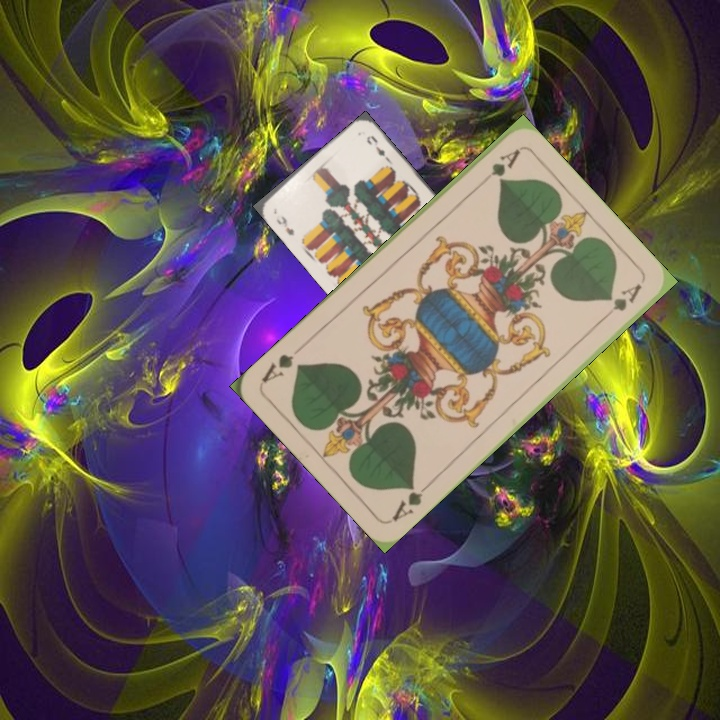E9: (272, 212, 297, 238)
GA: (473, 145, 522, 190), (388, 478, 434, 524)
